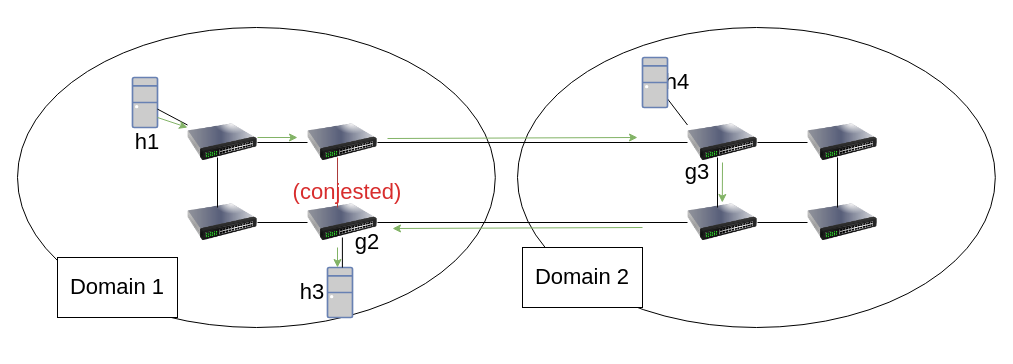
Some shapes in this 1013 by 364 pixel diagram are drawn without their labels. The shapes that lost their labels are listed below. From the top down, each one's centre as x and y in pixels, then its label:
At [342,142]: "g1".
At [722,222]: "g4".
